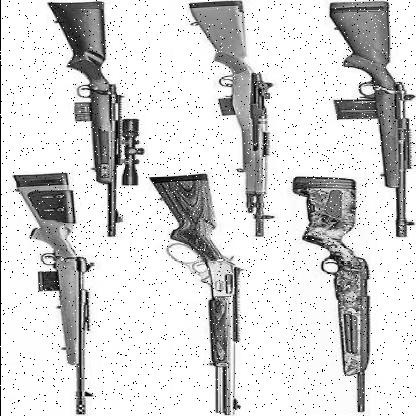rifle: (182, 0, 293, 255), (37, 0, 153, 244), (155, 169, 250, 415), (320, 0, 416, 241), (1, 168, 90, 415), (295, 174, 371, 414)
